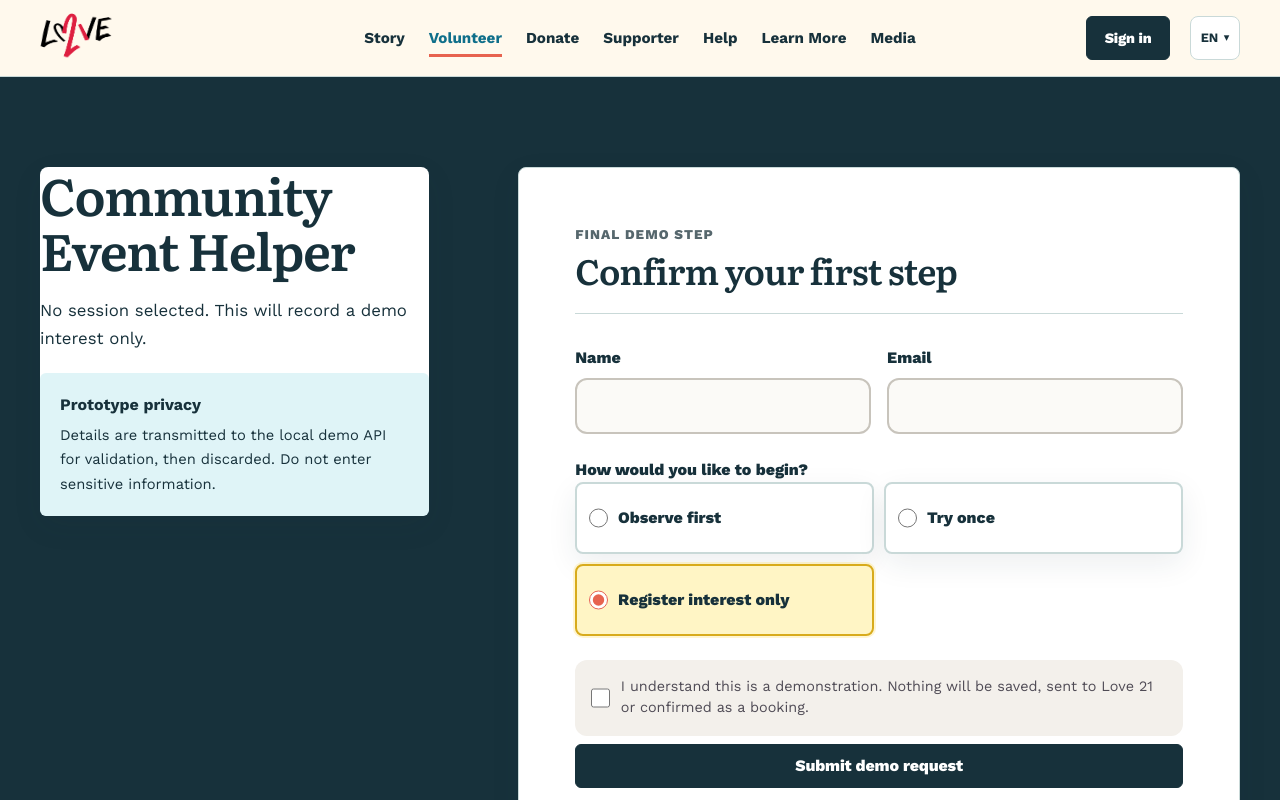
Test: closed-loop forms › preserves entered details after an API error so the visitor can retry
Type "Jamie Chan" into the field labelled "Name".
click(723, 406); type("Jamie Chan")  # box top-left (575, 378), bottom-right (871, 434)
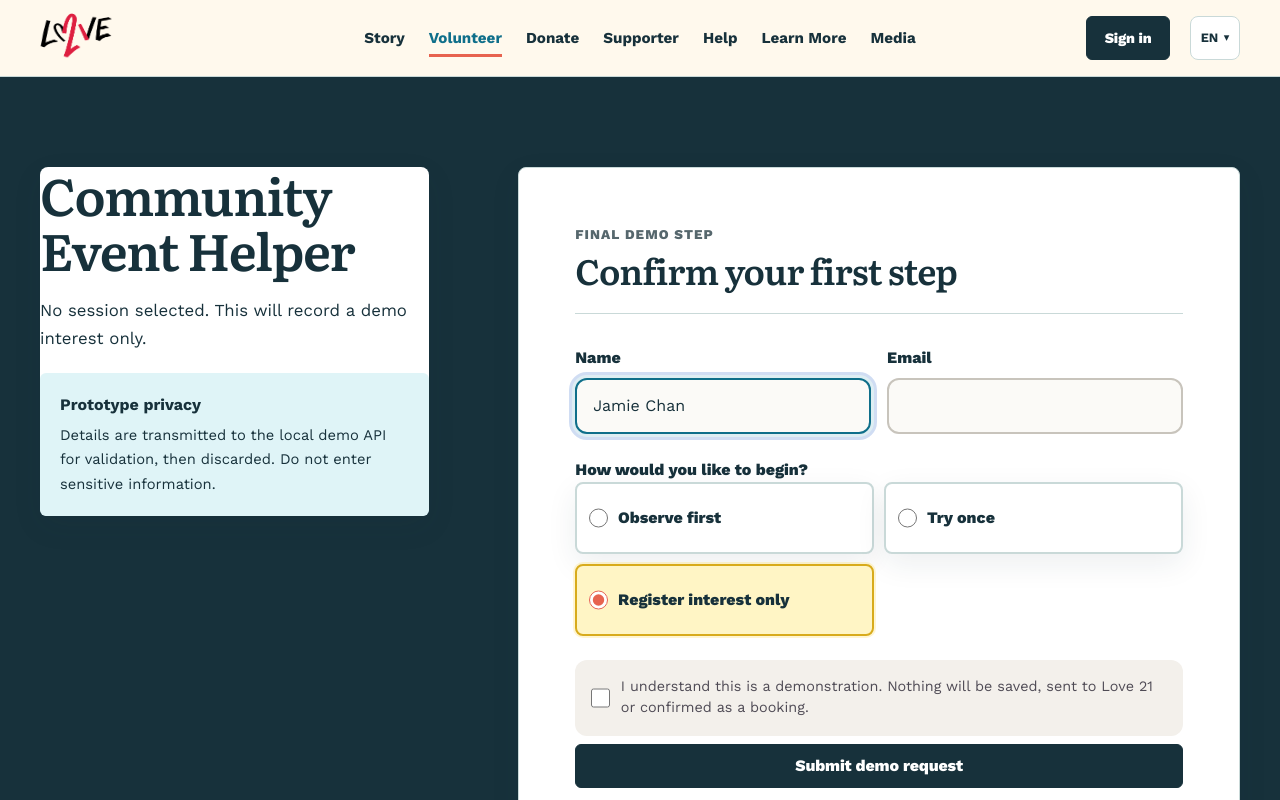
Type "jamie@example.com" into the field labelled "Email".
click(1035, 406); type("jamie@example.com")  # box top-left (887, 378), bottom-right (1183, 434)
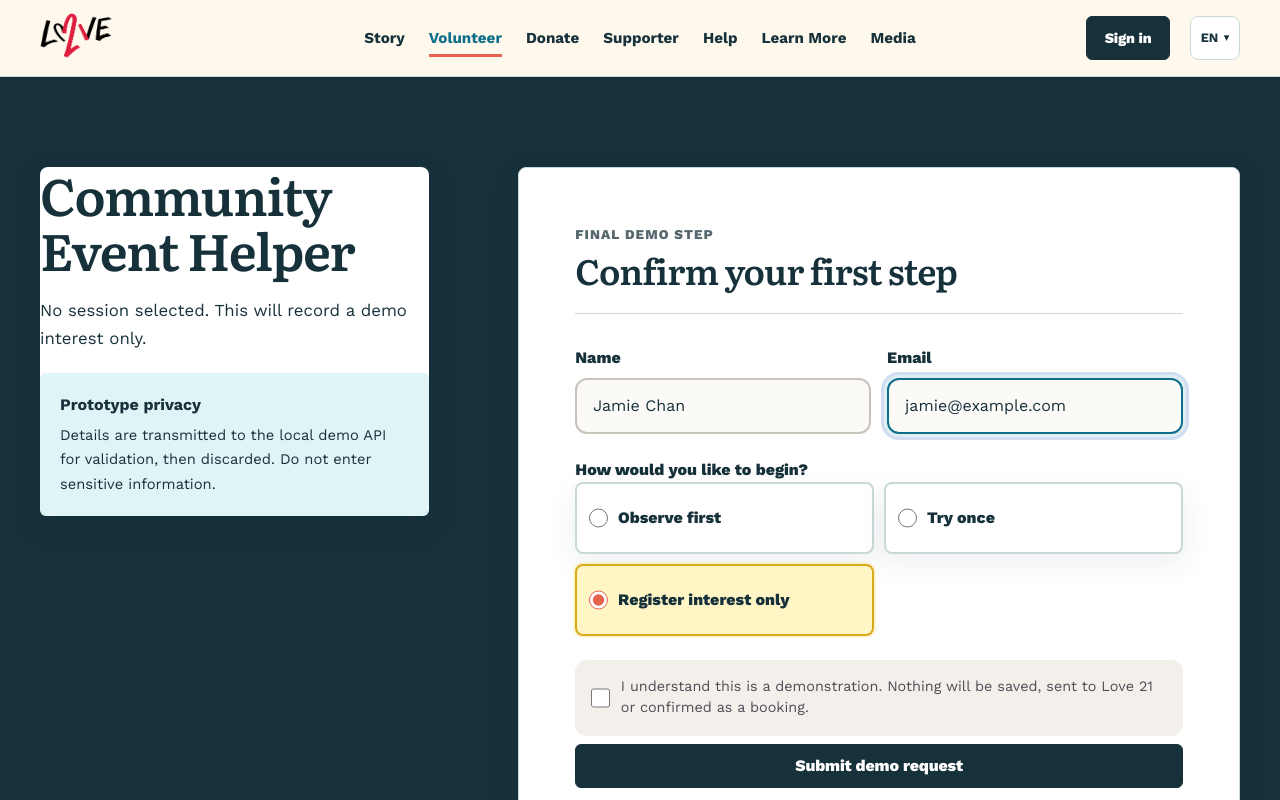
Click the checkbox labelled "I understand this is a demonstration".
click(600, 698)  # box top-left (591, 676), bottom-right (610, 720)
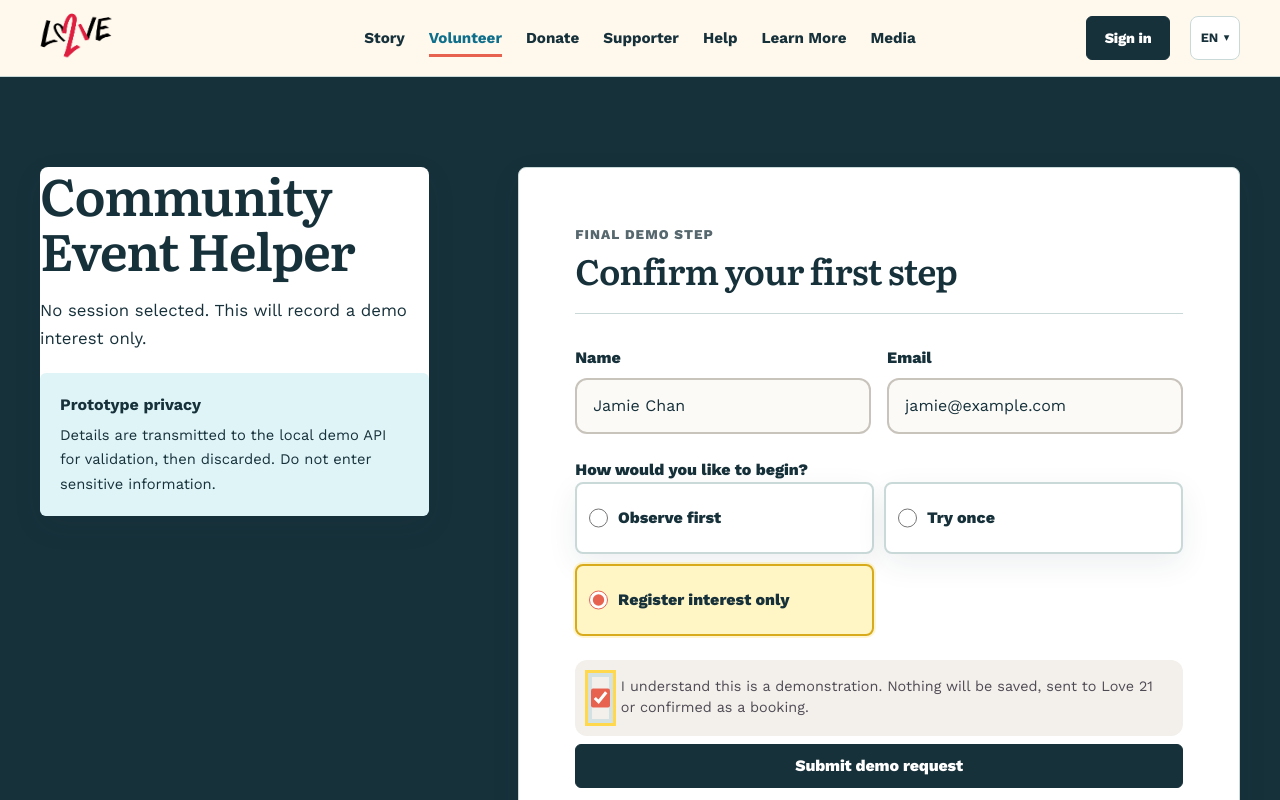
Click the button "Submit demo request".
click(879, 766)  # box top-left (575, 744), bottom-right (1183, 788)
(page scrolled)
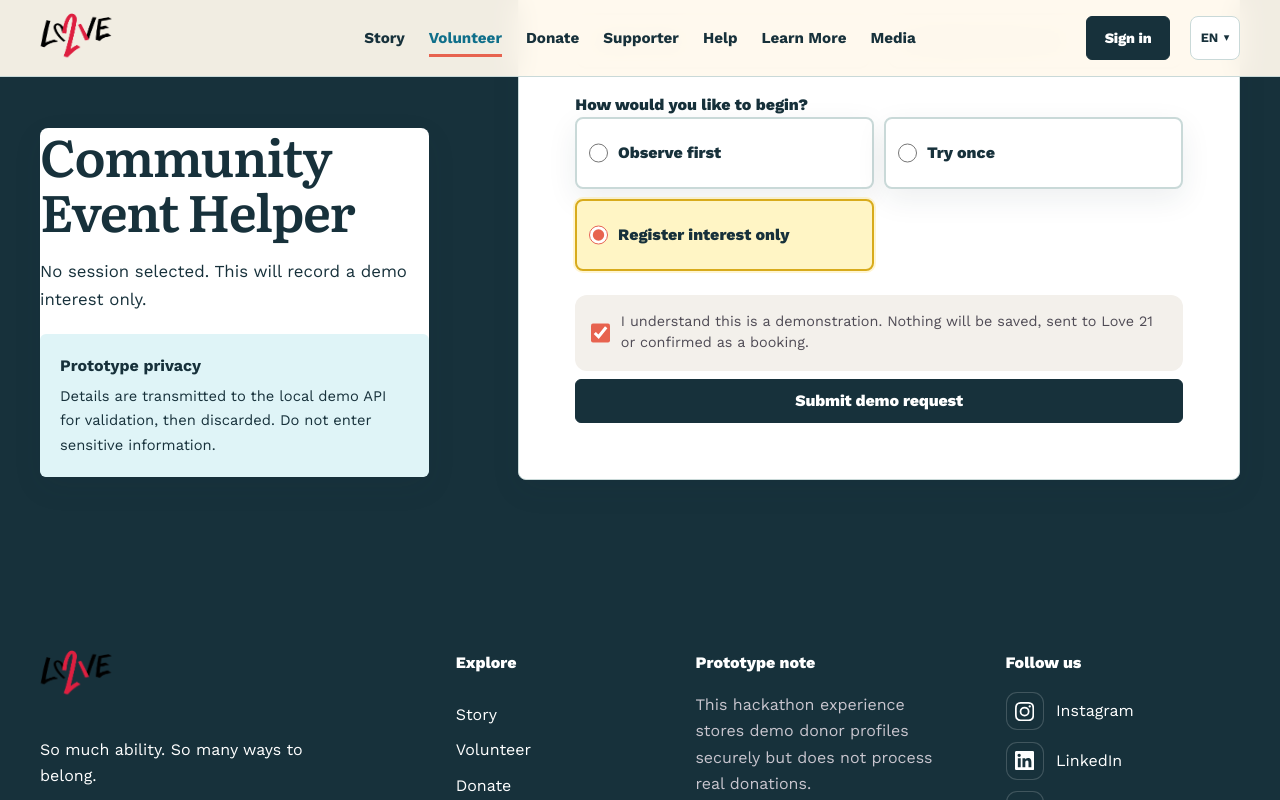
Click the button "Submit demo request".
click(879, 401)  # box top-left (575, 379), bottom-right (1183, 423)
(page scrolled)
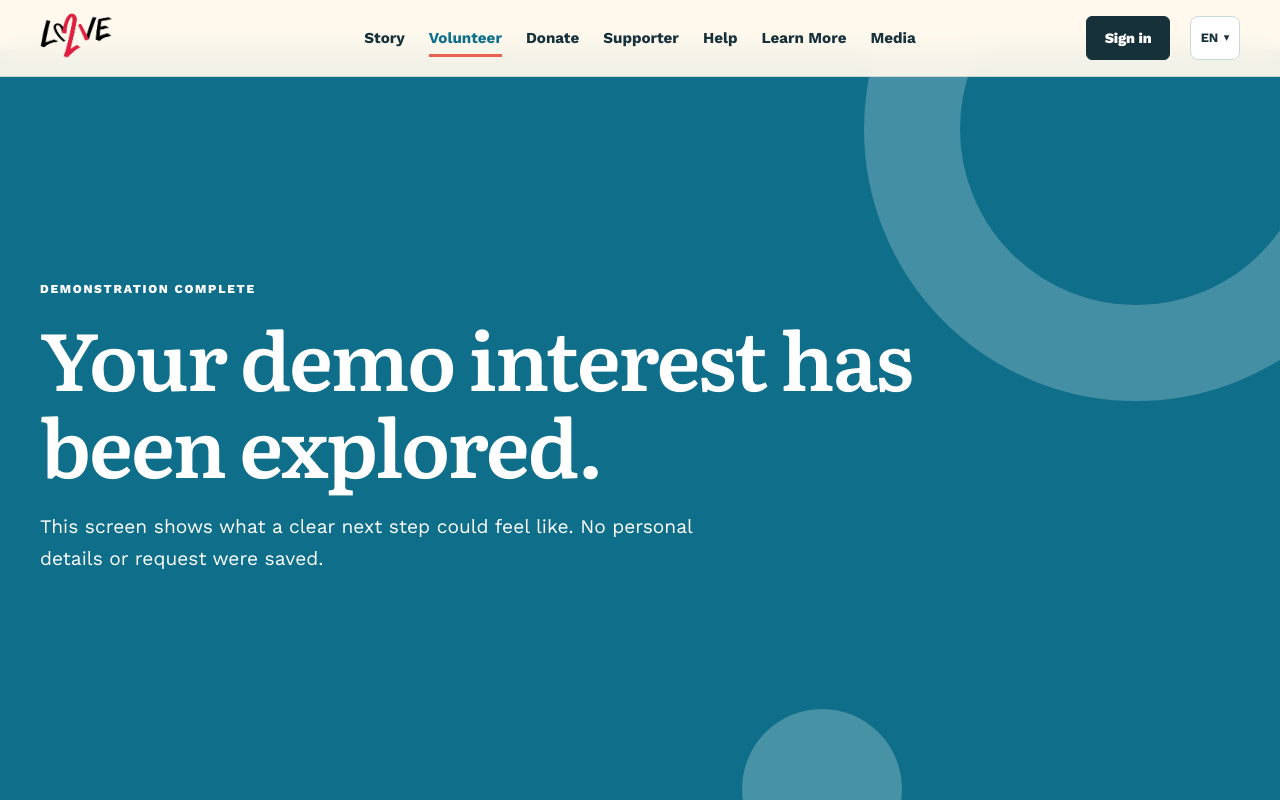
Expected: the heading "Your demo interest has been explored." is shown, top-left (40, 313), bottom-right (1040, 487)
